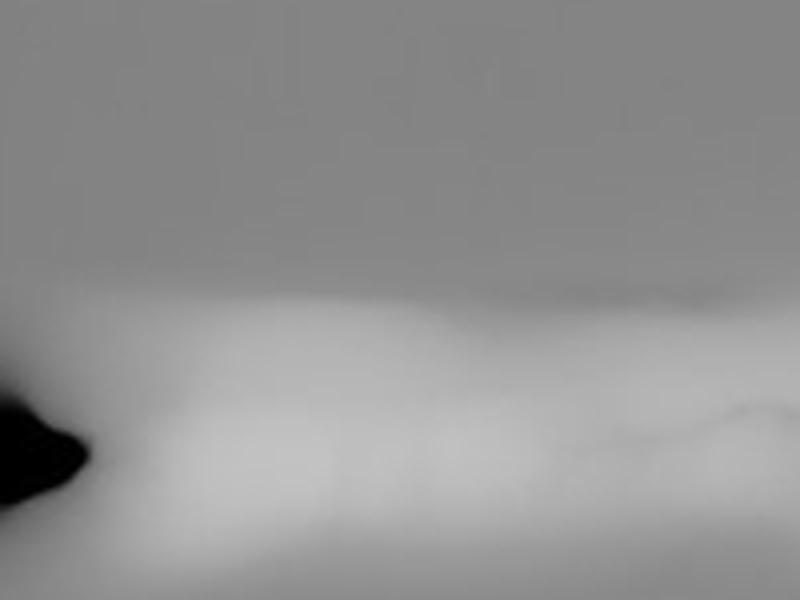defect: (1, 392, 89, 517)
